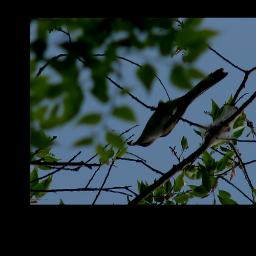Cuckoo: (129, 70, 229, 149)
